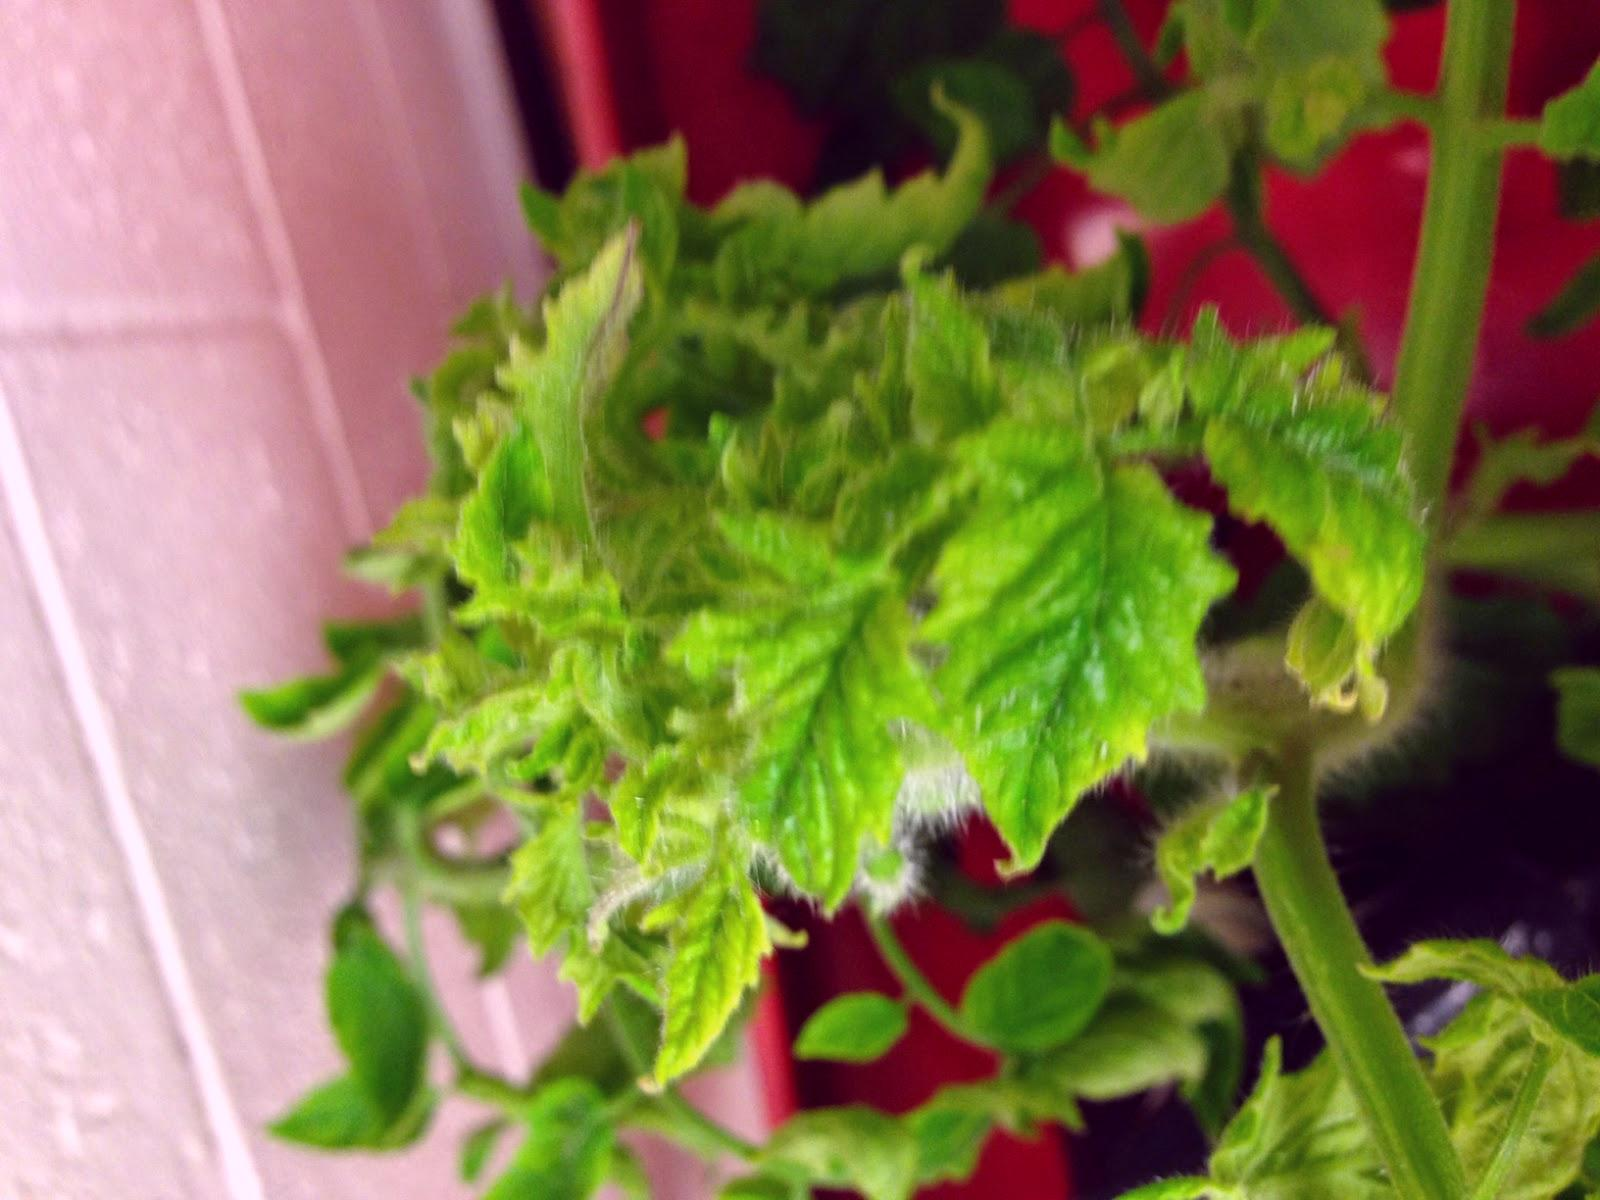Tomato leaf yellow virus: (950, 377, 1248, 893), (721, 481, 931, 976), (1201, 312, 1429, 756)
